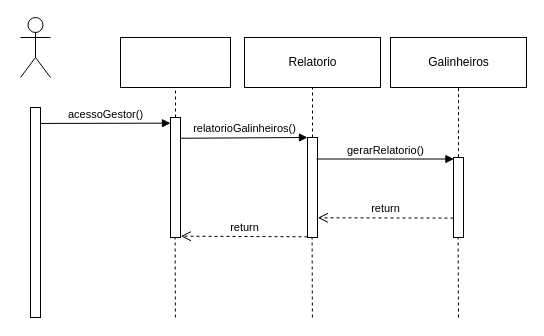
This 544x336 diagram has some shape labels left out. The shapes that lost their labels are listed below. From the top down, each one's centre as x and y in pixels, then its label:
At pixel 35 47: "Gestor".
At pixel 175 62: "viewGestor".
